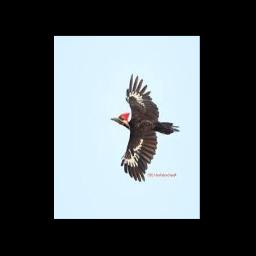Woodpecker: (112, 73, 180, 181)
